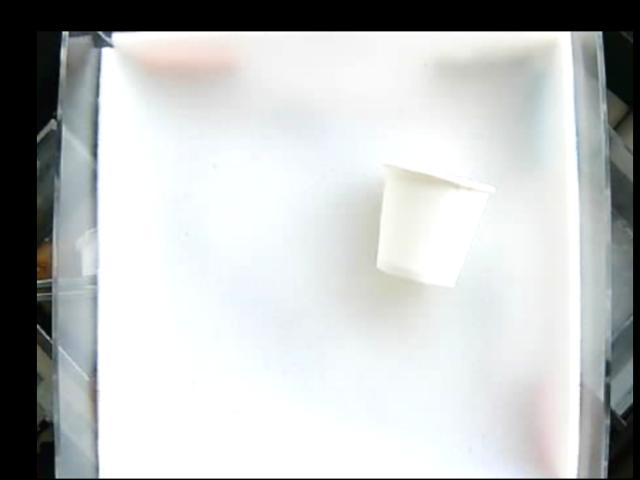Cup: (373, 162, 495, 288)
